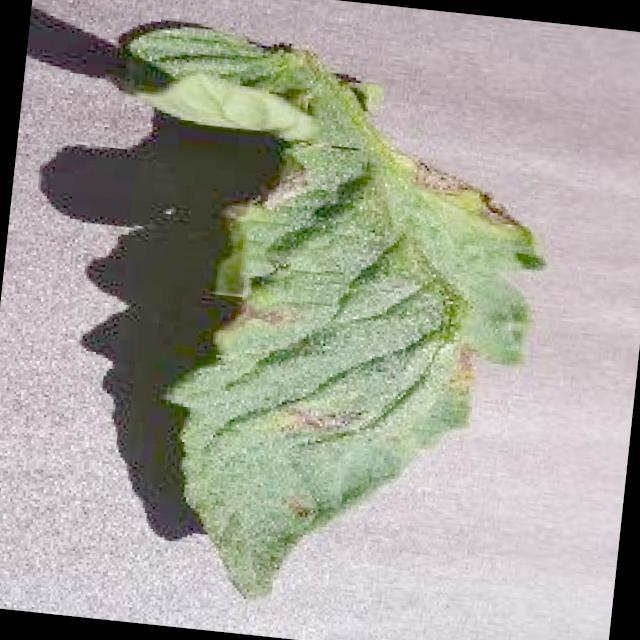Tomato Early blight leaf: (76, 18, 570, 635)
